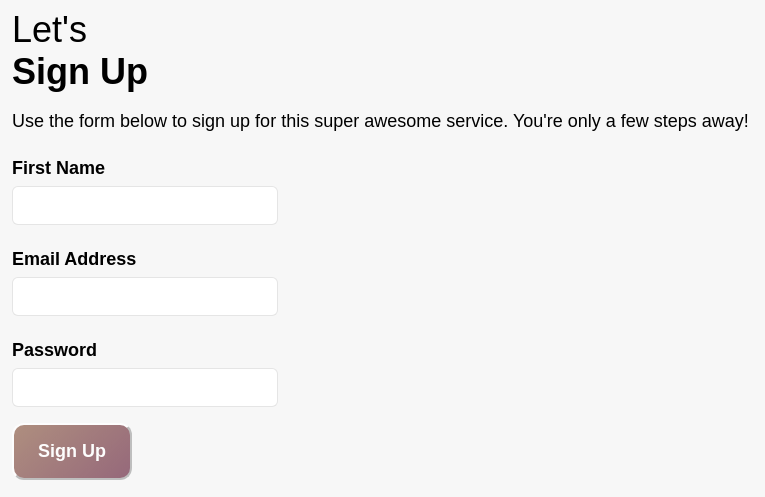
Scenario: Sign Up Button › is enabled when fields are valid
This screenshot has width=765, height=497.
Step 1. Type "Parker" into the field labelled "First Name" → (145, 206), box [12,186,278,225]
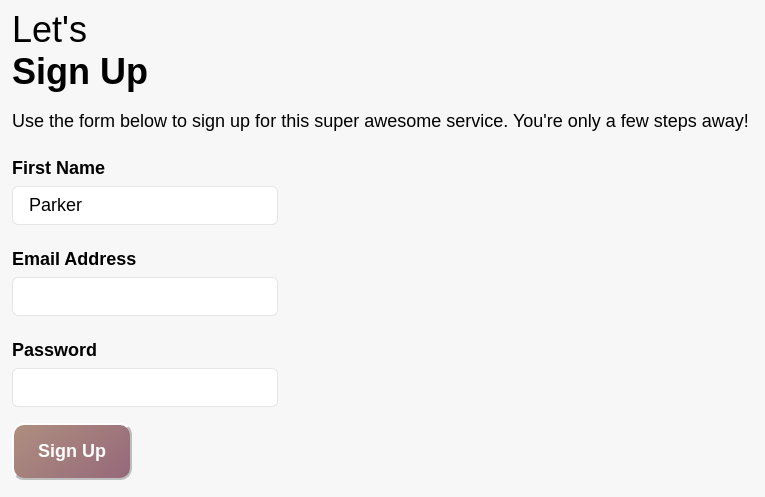
Step 2. Type "abc@def123.com" into the field labelled "Email Address" → (145, 296), box [12,277,278,316]
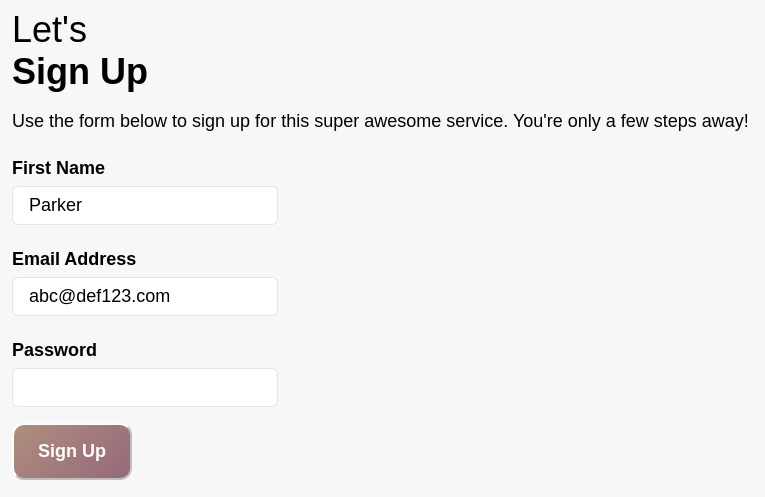
Step 3. Type "aBcEf1234%$&*" into the password field labelled "Password" → (145, 388), box [12,368,278,407]
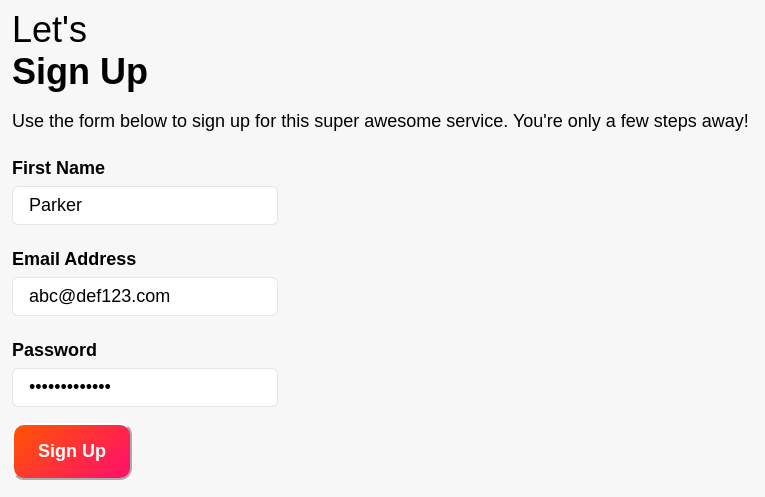
Expected: the button "Sign Up" is enabled, [12,423,132,480]
